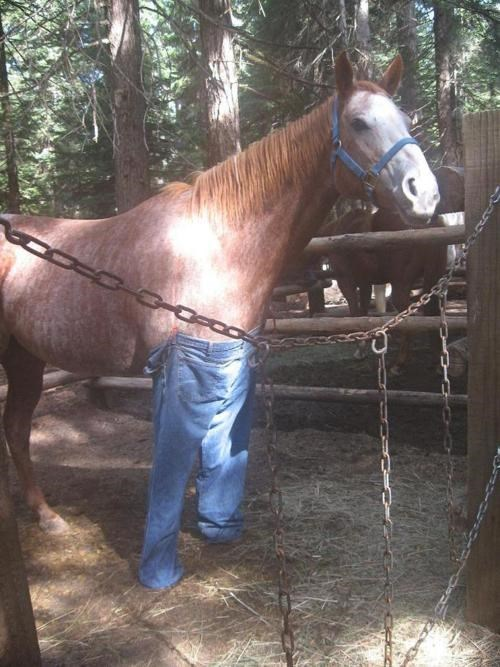Horse: (7, 49, 455, 576)
